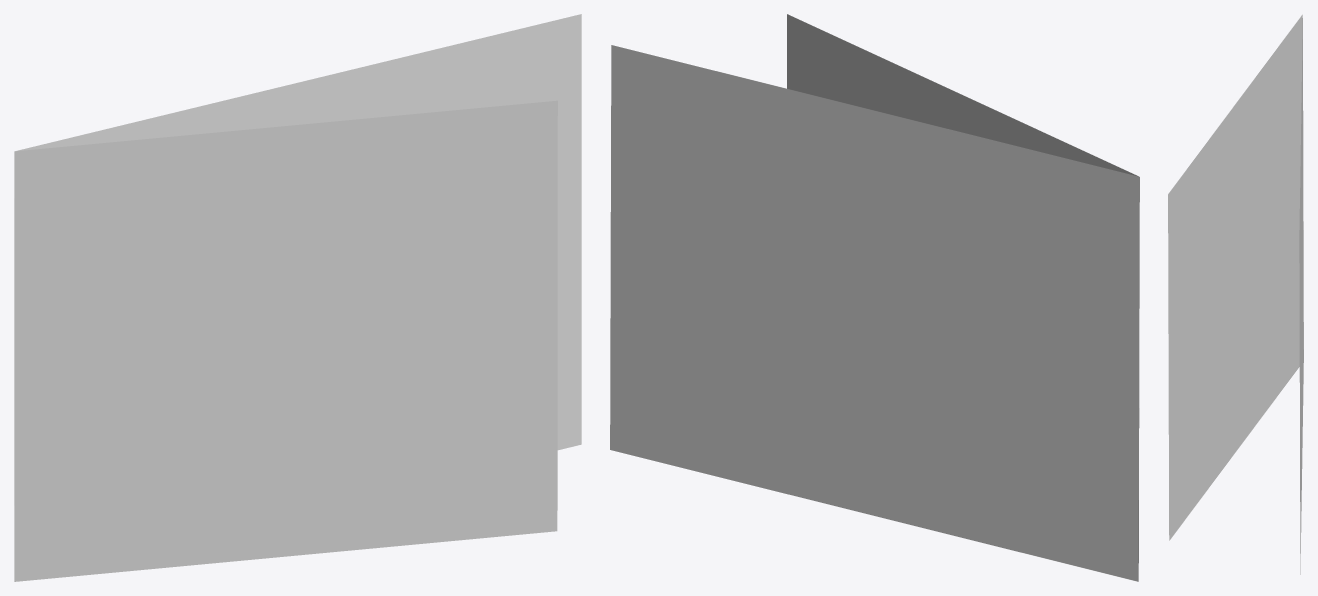
The model's file is Note_Separated.glb.
The picture shows the model from 3 angles, left to right: view 1: azimuth 30°, elevation 25°; view 2: azimuth 150°, elevation 25°; view 3: azimuth 270°, elevation 25°; orthographic projection. The views are drawn at different scales.
Visible parts, largest first — view 1: PlaneRight, PlaneLeft; view 2: PlaneLeft, PlaneRight; view 3: PlaneRight, PlaneLeft.
Boxes of the visible parts, x1,y1,x2,y2 form: PlaneRight: (14,100,557,581); PlaneLeft: (14,14,581,581); PlaneLeft: (610,45,1139,581); PlaneRight: (787,14,1139,562); PlaneRight: (1168,14,1303,540); PlaneLeft: (1299,18,1303,574).
Bounding box in the file's own units: 0.6862 × 0.5009 × 0.1775.
Materials: 1 (1 with a texture image).
